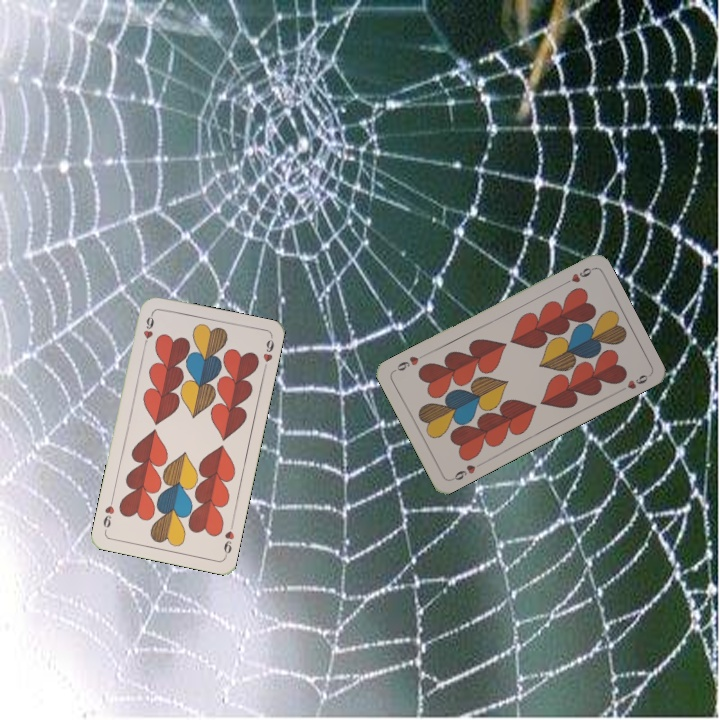H9: (557, 263, 595, 289), (447, 459, 484, 483), (139, 309, 157, 349), (220, 519, 237, 559)
